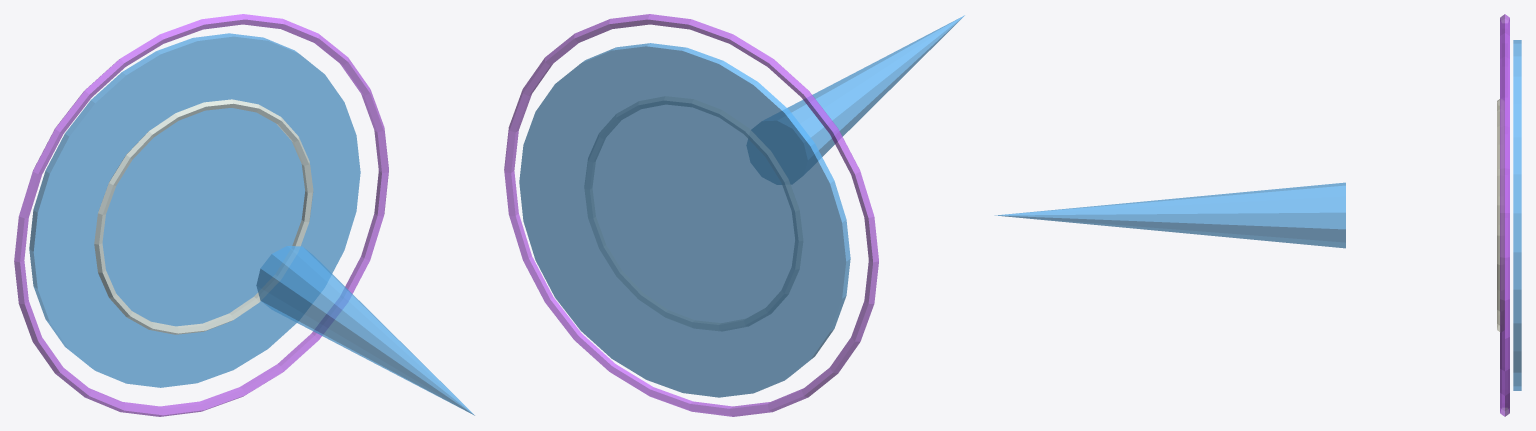
The model's file is vfx_teleport_marker.glb.
The picture shows the model from 3 angles, left to right: view 1: azimuth 30°, elevation 25°; view 2: azimuth 150°, elevation 25°; view 3: azimuth 270°, elevation 25°; orthographic projection. The views are drawn at different scales.
Visible parts, largest first — view 1: disc, outer, beam, inner; view 2: disc, outer, beam, inner; view 3: beam, outer, disc, inner.
Part boxes in pixels (x1,y1,x2,y2): disc: (29, 33, 360, 387); outer: (14, 14, 388, 416); beam: (256, 246, 474, 415); inner: (94, 99, 313, 334); disc: (519, 43, 850, 397); outer: (504, 14, 878, 416); beam: (747, 15, 964, 184); inner: (585, 96, 802, 330); beam: (994, 182, 1345, 248); outer: (1500, 14, 1509, 416); disc: (1513, 40, 1521, 390); inner: (1497, 99, 1504, 331).
Bounding box in the file's own units: 1.95 × 1.95 × 2.55.
